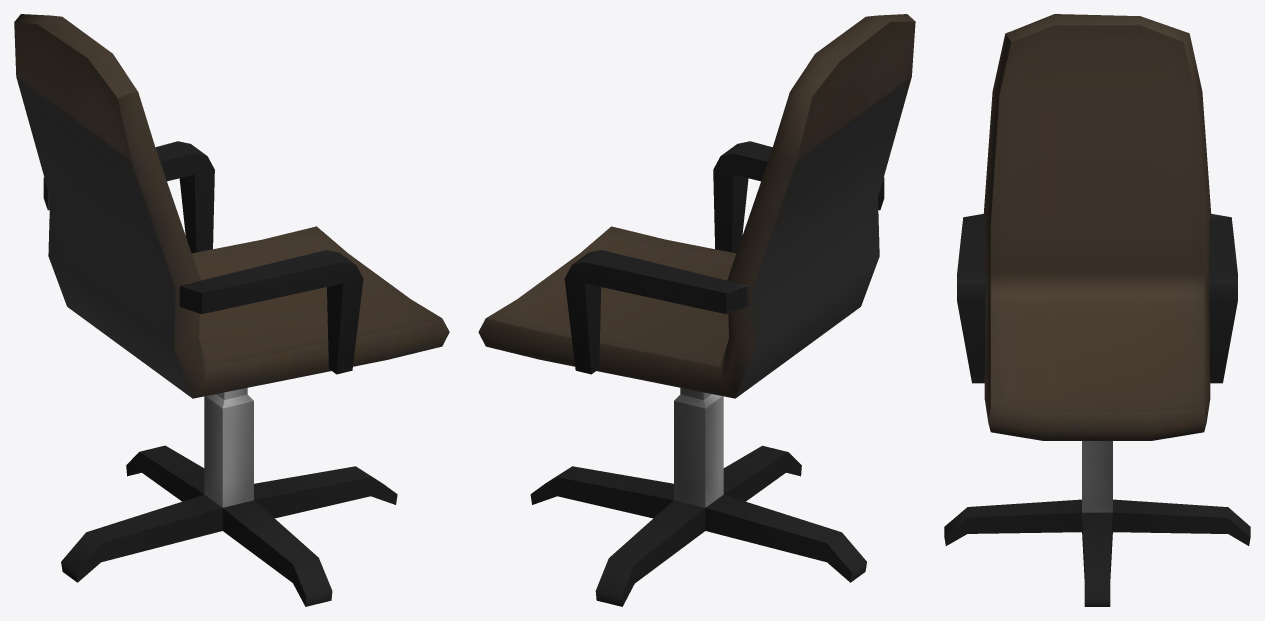
File: chair_-_household_props_challenge_-_day_3.glb
3 views of the same model, side by side, from view 1: azimuth 30°, elevation 25°; view 2: azimuth 150°, elevation 25°; view 3: azimuth 270°, elevation 25° (orthographic). The views are drawn at different scales.
Visible parts, largest first — view 1: chair_low, base_low, rightrest_low, leftrest_low; view 2: chair_low, base_low, leftrest_low, rightrest_low; view 3: chair_low, base_low, rightrest_low, leftrest_low.
Part boxes in pixels (x1=…): chair_low: x1=14, y1=14, x2=449, y2=398; base_low: x1=61, y1=388, x2=397, y2=606; rightrest_low: x1=179, y1=250, x2=363, y2=374; leftrest_low: x1=43, y1=141, x2=214, y2=253; chair_low: x1=478, y1=14, x2=915, y2=398; base_low: x1=530, y1=388, x2=866, y2=606; leftrest_low: x1=564, y1=250, x2=748, y2=374; rightrest_low: x1=713, y1=141, x2=884, y2=253; chair_low: x1=983, y1=14, x2=1211, y2=440; base_low: x1=944, y1=441, x2=1250, y2=606; rightrest_low: x1=957, y1=214, x2=985, y2=383; leftrest_low: x1=1209, y1=214, x2=1237, y2=383.
Bounding box in the file's own units: 1.27 × 2 × 1.21.
1 material, 1 textured.
